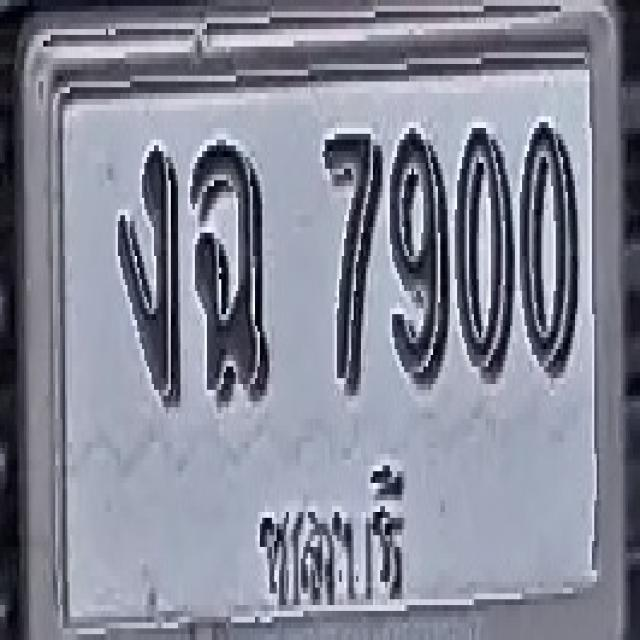0: (454, 122, 514, 378), (520, 114, 577, 376)
7: (322, 125, 382, 393)
9: (391, 122, 449, 384)
A07: (118, 140, 180, 402)
A09: (190, 140, 270, 402)
CBI: (245, 467, 418, 627)
